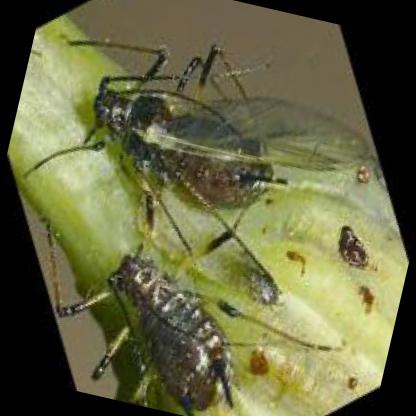uroleucon compositae: (80, 44, 367, 286), (40, 219, 301, 415)
